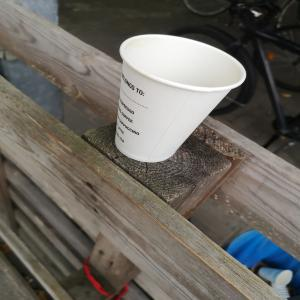Cup: (115, 34, 248, 165)
